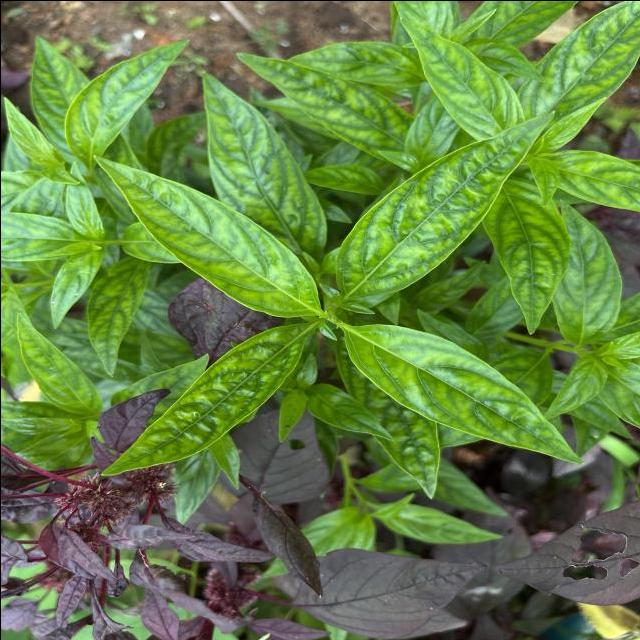Andrographis paniculata: (332, 107, 556, 302), (90, 151, 320, 318), (342, 316, 585, 464), (96, 320, 316, 478), (195, 66, 327, 258), (232, 49, 401, 164), (64, 33, 190, 165), (478, 190, 574, 336), (408, 28, 524, 143), (535, 0, 640, 125), (14, 310, 100, 412), (87, 250, 152, 378)
